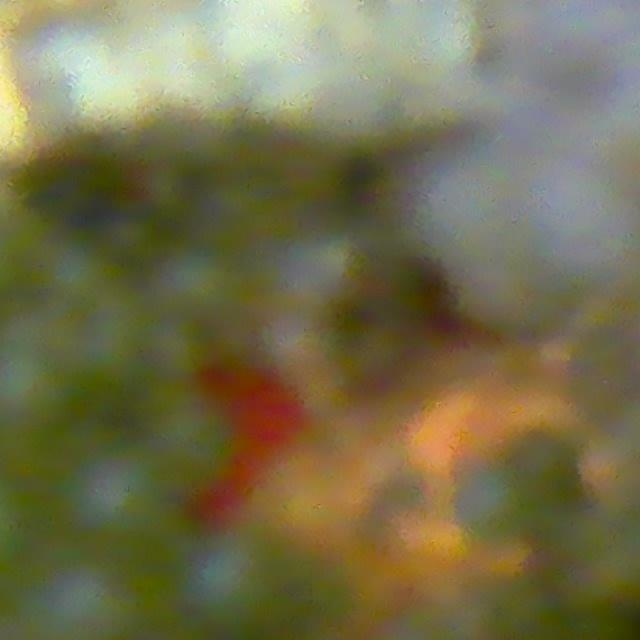SeaGrape: (415, 140, 520, 259), (520, 168, 634, 269), (62, 438, 168, 541), (17, 552, 141, 640), (178, 526, 282, 630), (458, 221, 548, 335), (147, 393, 240, 485), (501, 0, 591, 88), (155, 242, 240, 321), (452, 458, 532, 538), (0, 344, 71, 427), (510, 427, 577, 494)
